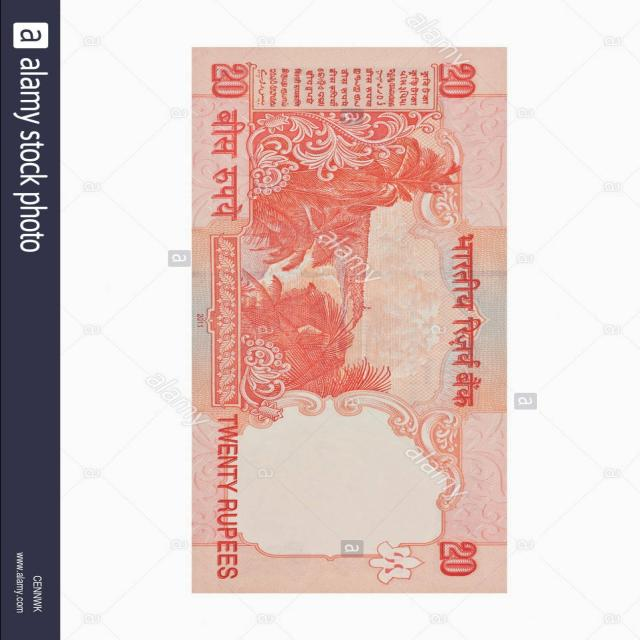20IndianRupees: (194, 49, 506, 593)
